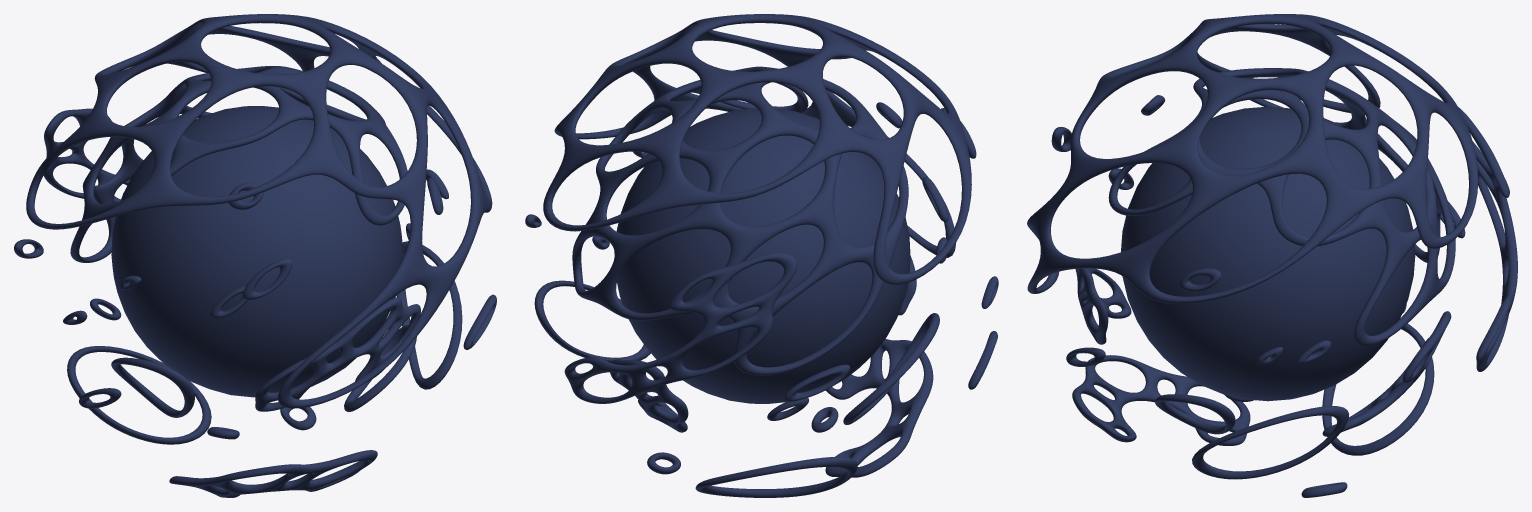
The picture shows the model from 3 angles, left to right: view 1: azimuth 30°, elevation 25°; view 2: azimuth 150°, elevation 25°; view 3: azimuth 270°, elevation 25°; orthographic projection.
Parts seen in each view (by area): view 1: Plane.001, Icosphere; view 2: Plane.001, Icosphere; view 3: Plane.001, Icosphere.
Part boxes in pixels (left/top/right/bottom): Plane.001: left=14, top=14, right=496, bottom=497; Icosphere: left=111, top=106, right=402, bottom=397; Plane.001: left=525, top=14, right=998, bottom=497; Icosphere: left=614, top=108, right=910, bottom=403; Plane.001: left=1027, top=14, right=1517, bottom=497; Icosphere: left=1121, top=106, right=1415, bottom=401.
Size of the model in its own units: 15.41 by 14.99 by 15.58.
